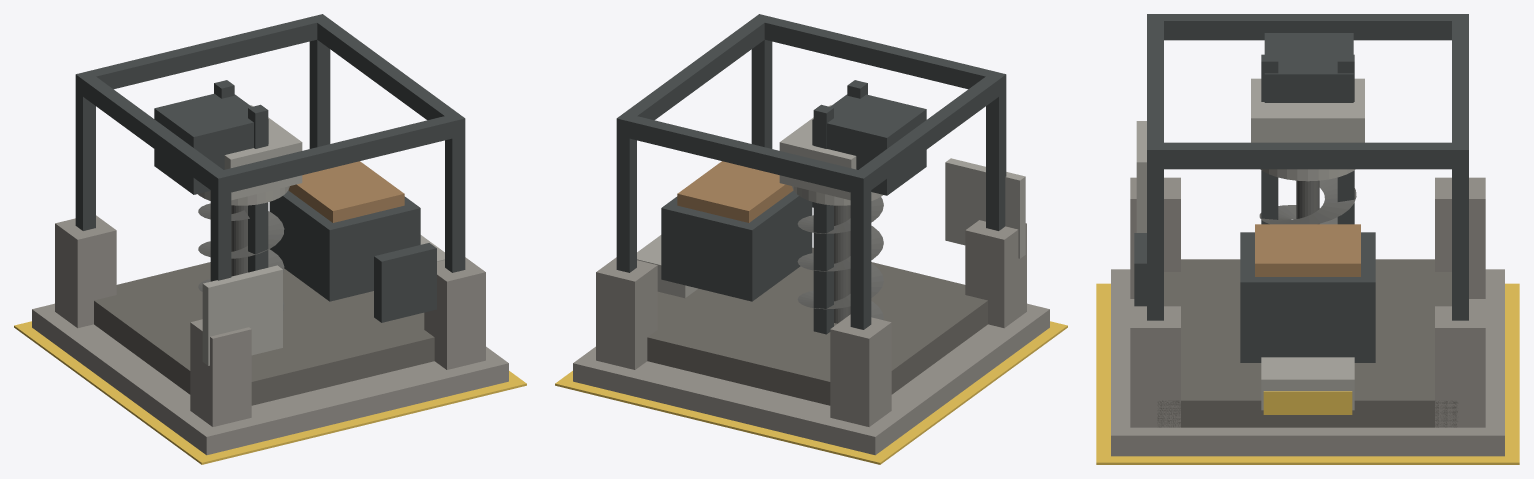
The model's file is basic_mining_drill.glb.
3 renders of one model, left to right at view 1: azimuth 30°, elevation 25°; view 2: azimuth 150°, elevation 25°; view 3: azimuth 270°, elevation 25°, orthographic. The views are drawn at different scales.
Parts seen in each view (by area): view 1: machine_deck, foundation_stone_slab, ore_hopper, top_side_rail_-1, service_panel, corner_stone_pier_-1_+1, preview_footprint_2x2, rotary_motor_housing, top_side_rail_+1, corner_stone_pier_-1_-1, corner_stone_pier_+1_-1, hopper_ore_fill (+12 smaller); view 2: machine_deck, foundation_stone_slab, ore_hopper, corner_stone_pier_-1_+1, top_side_rail_+1, corner_stone_pier_+1_+1, rotary_motor_housing, preview_footprint_2x2, top_side_rail_-1, corner_stone_pier_-1_-1, hopper_ore_fill, service_panel (+12 smaller); view 3: machine_deck, foundation_stone_slab, ore_hopper, preview_footprint_2x2, top_cross_rail_+1, top_cross_rail_-1, corner_stone_pier_+1_-1, corner_stone_pier_+1_+1, rotary_motor_housing, hopper_ore_fill, drill_carriage, corner_stone_pier_-1_+1 (+14 smaller).
Part boxes in pixels (x1,y1,x2,y2): machine_deck: [94, 262, 434, 405]; foundation_stone_slab: [32, 303, 508, 455]; ore_hopper: [269, 190, 420, 301]; top_side_rail_-1: [210, 113, 465, 195]; service_panel: [202, 265, 282, 365]; corner_stone_pier_-1_+1: [55, 215, 116, 328]; preview_footprint_2x2: [14, 321, 526, 464]; rotary_motor_housing: [154, 93, 268, 194]; top_side_rail_+1: [83, 14, 329, 89]; corner_stone_pier_-1_-1: [190, 319, 251, 426]; corner_stone_pier_+1_-1: [424, 257, 485, 369]; hopper_ore_fill: [288, 161, 404, 222]; machine_deck: [647, 247, 987, 405]; foundation_stone_slab: [573, 303, 1049, 455]; ore_hopper: [661, 190, 812, 301]; corner_stone_pier_-1_+1: [830, 314, 891, 426]; top_side_rail_+1: [616, 113, 870, 195]; corner_stone_pier_+1_+1: [596, 257, 657, 369]; rotary_motor_housing: [812, 94, 926, 195]; preview_footprint_2x2: [555, 321, 1067, 464]; top_side_rail_-1: [752, 14, 999, 89]; corner_stone_pier_-1_-1: [965, 220, 1026, 328]; hopper_ore_fill: [677, 161, 793, 222]; service_panel: [945, 158, 1025, 258]; machine_deck: [1157, 259, 1458, 427]; foundation_stone_slab: [1111, 269, 1504, 456]; ore_hopper: [1240, 232, 1375, 362]; preview_footprint_2x2: [1096, 283, 1519, 464]; top_cross_rail_+1: [1147, 142, 1468, 169]; top_cross_rail_-1: [1147, 14, 1468, 40]; corner_stone_pier_+1_-1: [1130, 306, 1180, 427]; corner_stone_pier_+1_+1: [1435, 306, 1485, 427]; rotary_motor_housing: [1264, 33, 1353, 102]; hopper_ore_fill: [1255, 224, 1360, 276]; drill_carriage: [1251, 78, 1364, 142]; corner_stone_pier_-1_+1: [1435, 177, 1485, 298].
Bounding box in the file's own units: 2 × 1.57 × 2.
